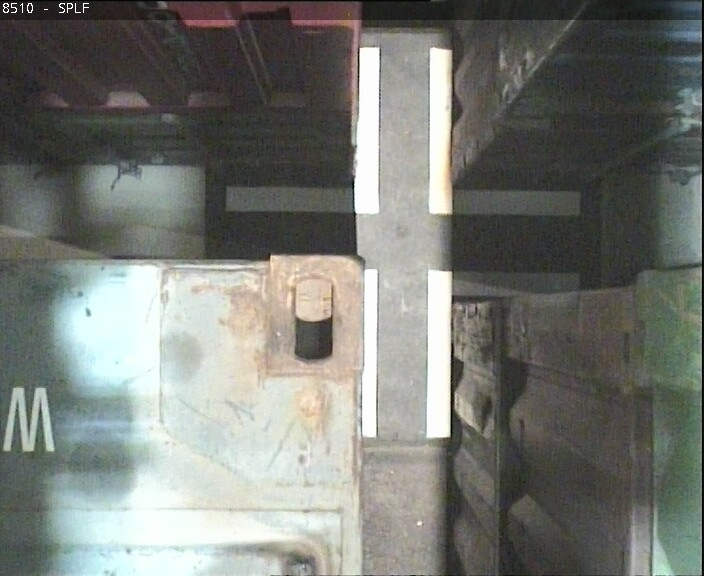groundmarker_1: (219, 43, 590, 221), (216, 264, 587, 441)
